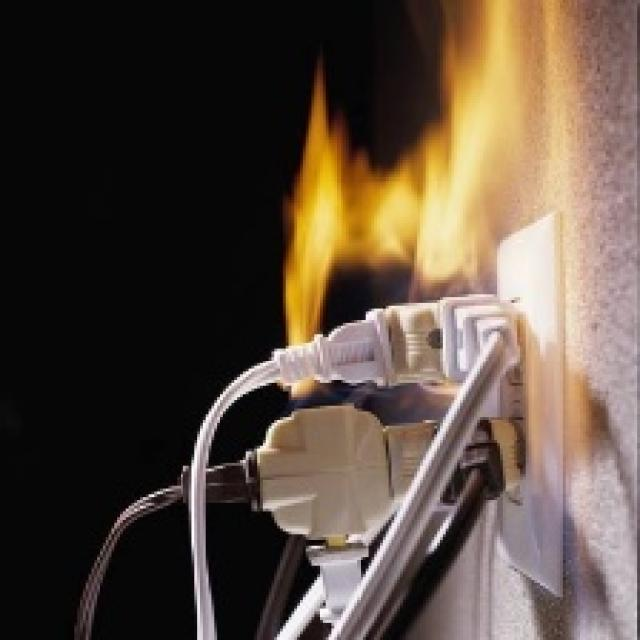Fire: (286, 0, 540, 403)
